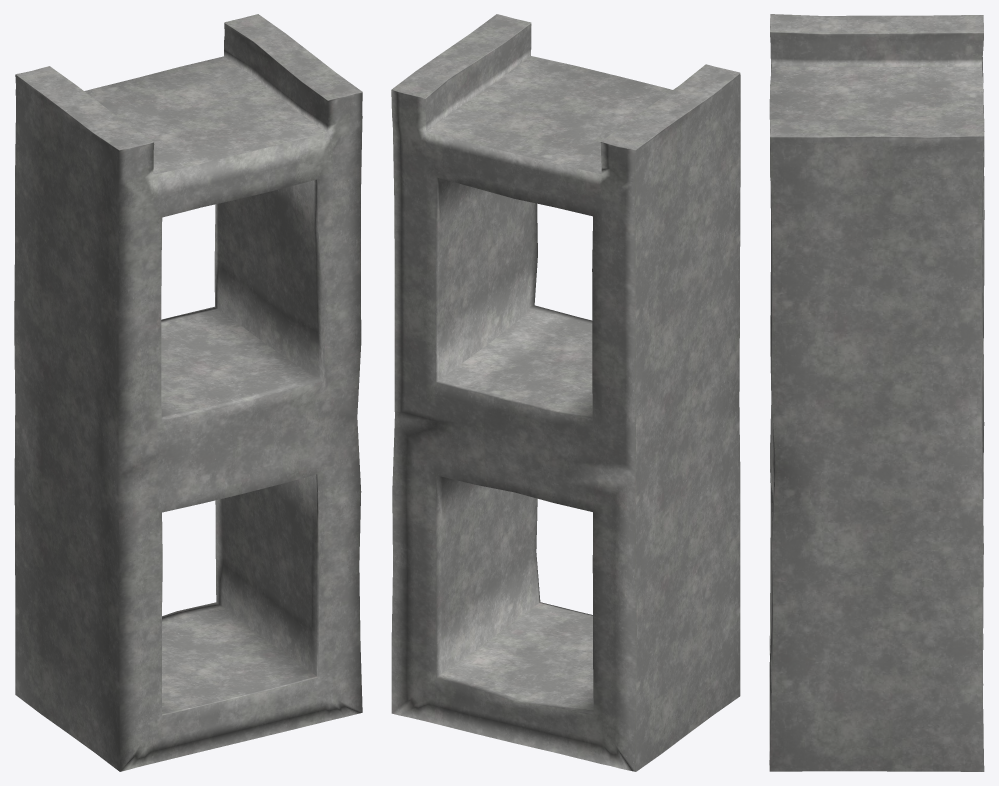
File: brick.fbx
The picture shows the model from 3 angles, left to right: view 1: azimuth 30°, elevation 25°; view 2: azimuth 150°, elevation 25°; view 3: azimuth 270°, elevation 25°; orthographic projection. The views are drawn at different scales.
Visible parts, largest first — view 1: brick; view 2: brick; view 3: brick.
Part boxes in pixels (x1,y1,x2,y2): brick: (14, 14, 362, 771); brick: (391, 14, 740, 771); brick: (769, 14, 984, 771).
Bounding box in the file's own units: 68.37 × 166 × 50.66.
